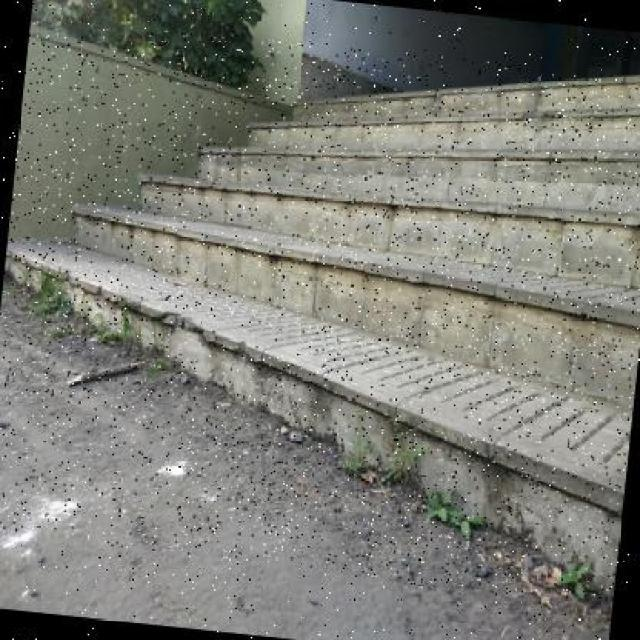Stairs: (215, 23, 624, 502)
